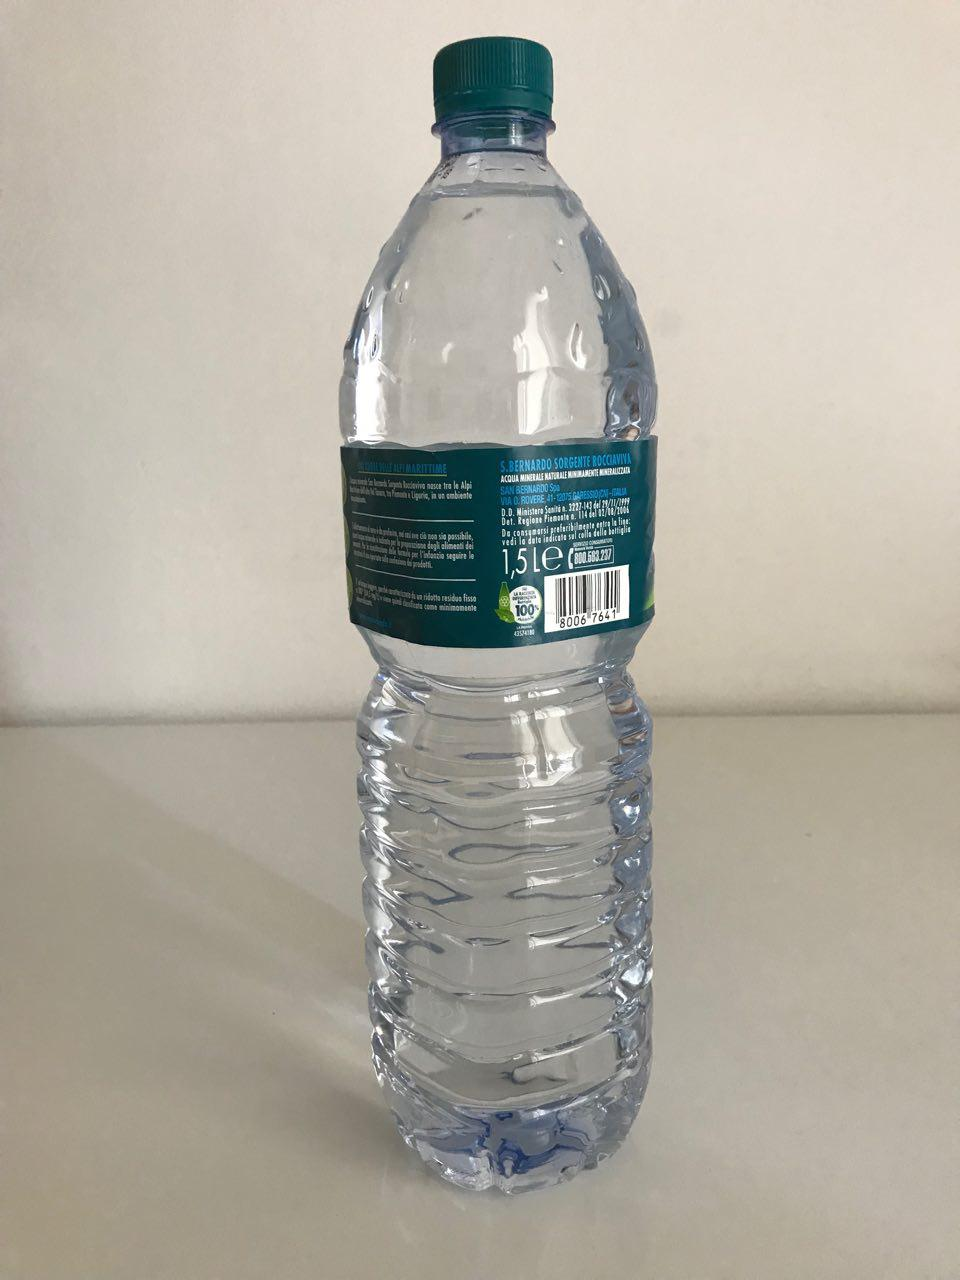san_bernardo: (336, 35, 658, 1196)
